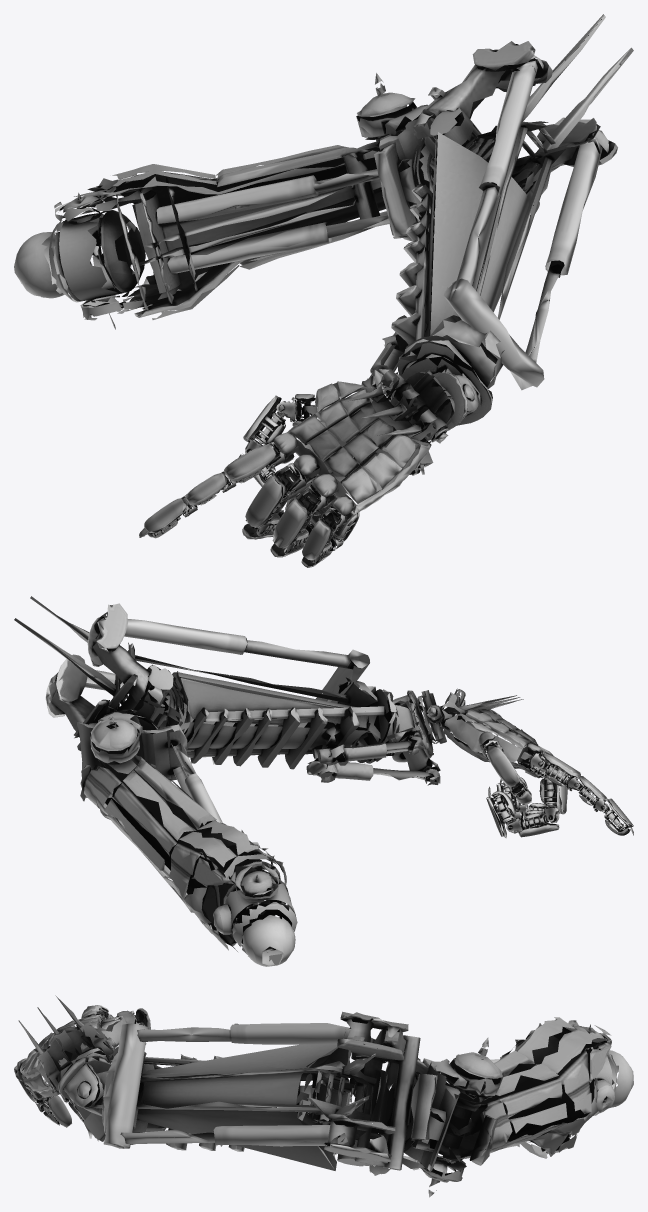
The model's file is bras-robotique.glb.
3 renders of one model, top to bottom at view 1: azimuth 30°, elevation 25°; view 2: azimuth 150°, elevation 25°; view 3: azimuth 270°, elevation 25°, orthographic. The views are drawn at different scales.
Visible parts, largest first — view 1: Cube, Cube.001; view 2: Cube, Cube.001; view 3: Cube, Cube.001.
Part boxes in pixels (x1,y1,x2,y2): Cube: (14, 14, 633, 475); Cube.001: (139, 369, 478, 567); Cube: (14, 596, 440, 966); Cube.001: (391, 688, 633, 838); Cube: (80, 1011, 633, 1197); Cube.001: (14, 995, 150, 1127).
Size of the model in its own units: 5.41 by 2.46 by 5.05.
Materials: 2 (2 with a texture image).
